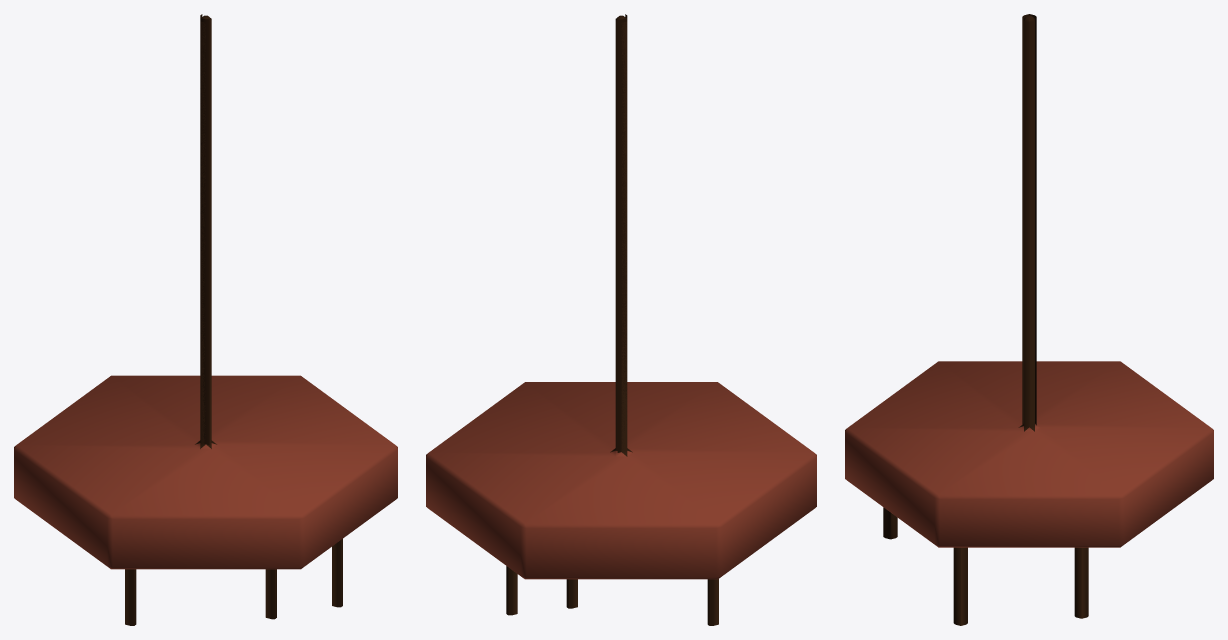
File: windChime_top.glb
3 renders of one model, left to right at view 1: azimuth 30°, elevation 25°; view 2: azimuth 150°, elevation 25°; view 3: azimuth 270°, elevation 25°, orthographic. The views are drawn at different scales.
Parts seen in each view (by area): view 1: Cylinder; view 2: Cylinder; view 3: Cylinder.
Boxes of the visible parts, x1=… form: Cylinder: x1=14, y1=14, x2=397, y2=625; Cylinder: x1=426, y1=14, x2=816, y2=625; Cylinder: x1=845, y1=14, x2=1213, y2=625.
Size of the model in its own units: 0.4558 by 0.8765 by 0.5213.
